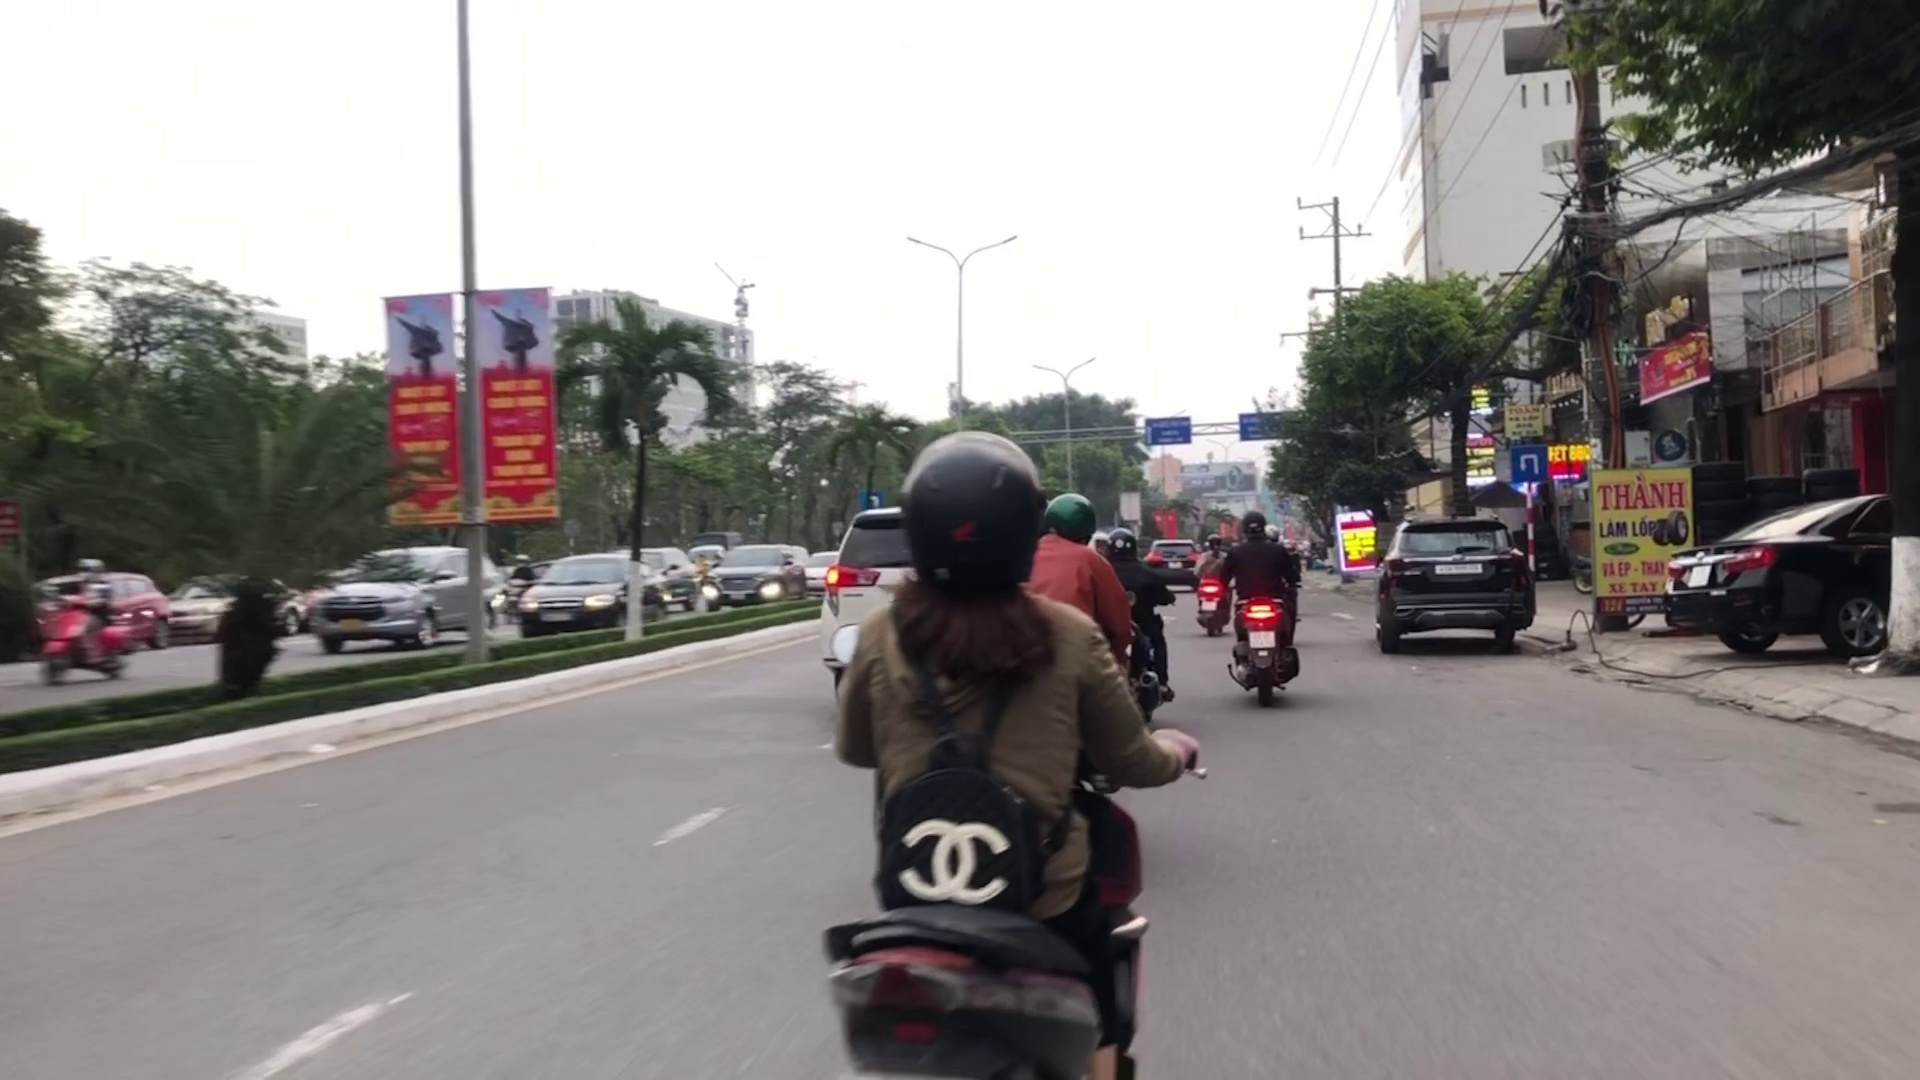Bien khac: (1506, 436, 1549, 485)
